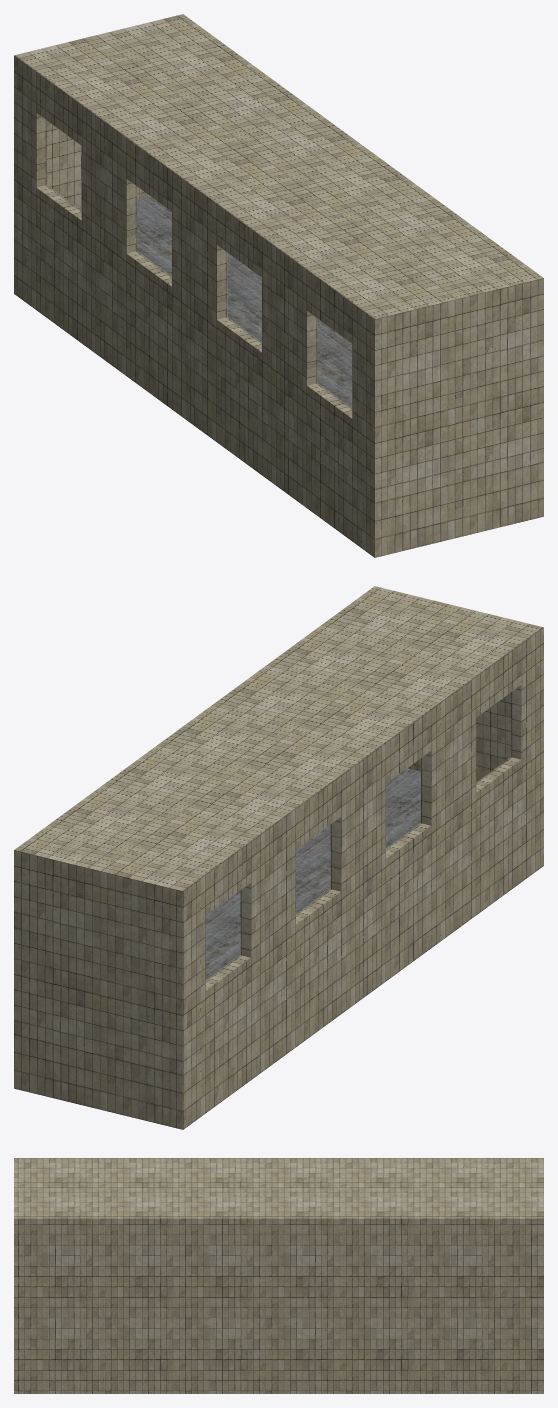
File: civ_base_a.FBX
3 views of the same model, one above another, from view 1: azimuth 30°, elevation 25°; view 2: azimuth 150°, elevation 25°; view 3: azimuth 270°, elevation 25° (orthographic). The views are drawn at different scales.
Parts seen in each view (by area): view 1: civ_base_a; view 2: civ_base_a; view 3: civ_base_a.
Boxes of the visible parts, bbox=[...] form: civ_base_a: bbox=[14, 14, 543, 557]; civ_base_a: bbox=[14, 586, 543, 1129]; civ_base_a: bbox=[14, 1158, 543, 1393].
Bounding box in the file's own units: 325 × 438 × 1200.
